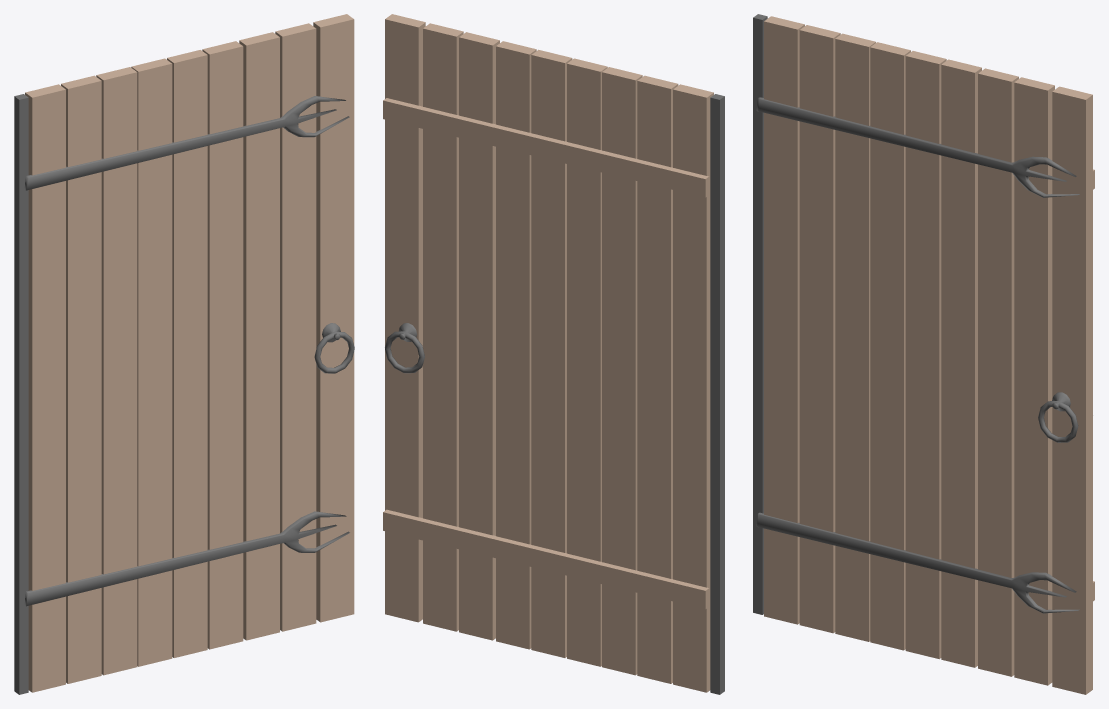
The model's file is SquareDoor.fbx.
The picture shows the model from 3 angles, left to right: view 1: azimuth 30°, elevation 25°; view 2: azimuth 150°, elevation 25°; view 3: azimuth 330°, elevation 25°; orthographic projection.
Parts seen in each view (by area): view 1: Door_LOD0; view 2: Door_LOD0; view 3: Door_LOD0.
Part boxes in pixels (box(x1,y1,x2,y2)): Door_LOD0: box(14, 14, 354, 694); Door_LOD0: box(383, 14, 724, 694); Door_LOD0: box(753, 14, 1094, 694).
Size of what is drawn, in the model's own units: 105 by 179 by 11.79.
